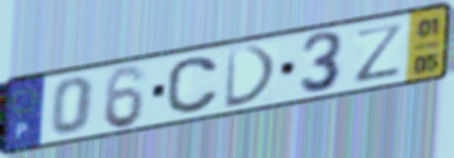0: (49, 75, 96, 138)
3: (297, 29, 348, 96)
6: (101, 63, 150, 132)
C: (165, 54, 223, 117)
D: (222, 42, 281, 111)
Z: (353, 20, 408, 85)
